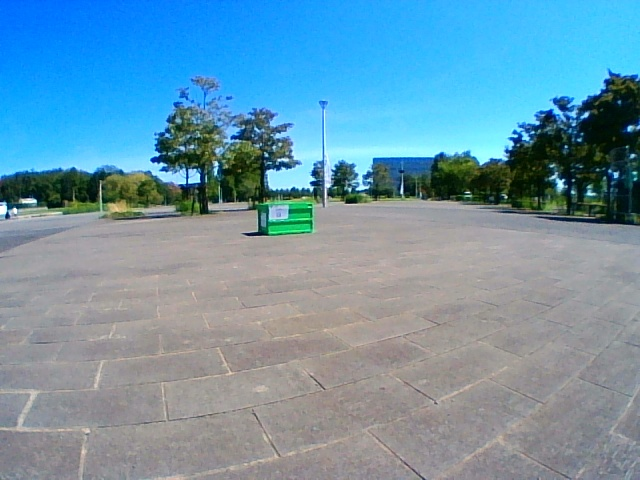green_box: (257, 202, 313, 235)
tag: (269, 206, 287, 218)
